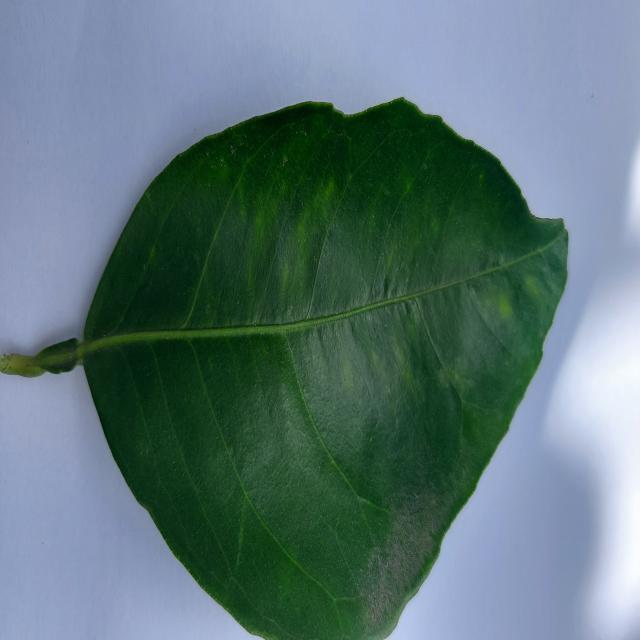greening: (0, 99, 568, 640)
